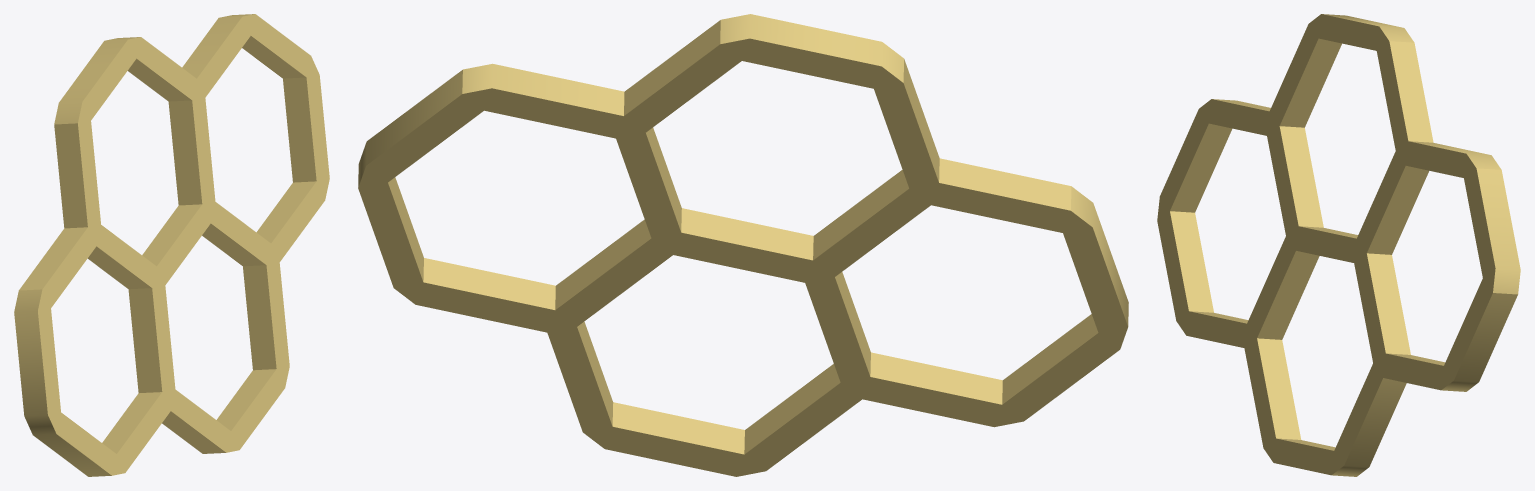
Rendered from SM_HoneyComb.fbx.
3 views of the same model, side by side, from view 1: azimuth 30°, elevation 25°; view 2: azimuth 150°, elevation 25°; view 3: azimuth 270°, elevation 25° (orthographic). The views are drawn at different scales.
Parts seen in each view (by area): view 1: HoneyComb; view 2: HoneyComb; view 3: HoneyComb.
Boxes of the visible parts, x1=… form: HoneyComb: x1=14, y1=14, x2=329, y2=476; HoneyComb: x1=358, y1=14, x2=1128, y2=476; HoneyComb: x1=1157, y1=14, x2=1520, y2=476.
Size of the model in its own units: 108 by 92.23 by 73.59.
